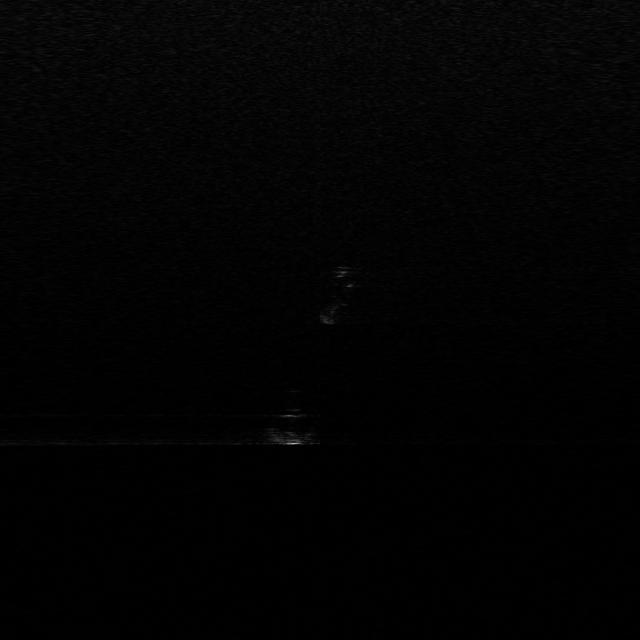ball: (263, 408, 319, 445)
tyre: (323, 264, 362, 325)
